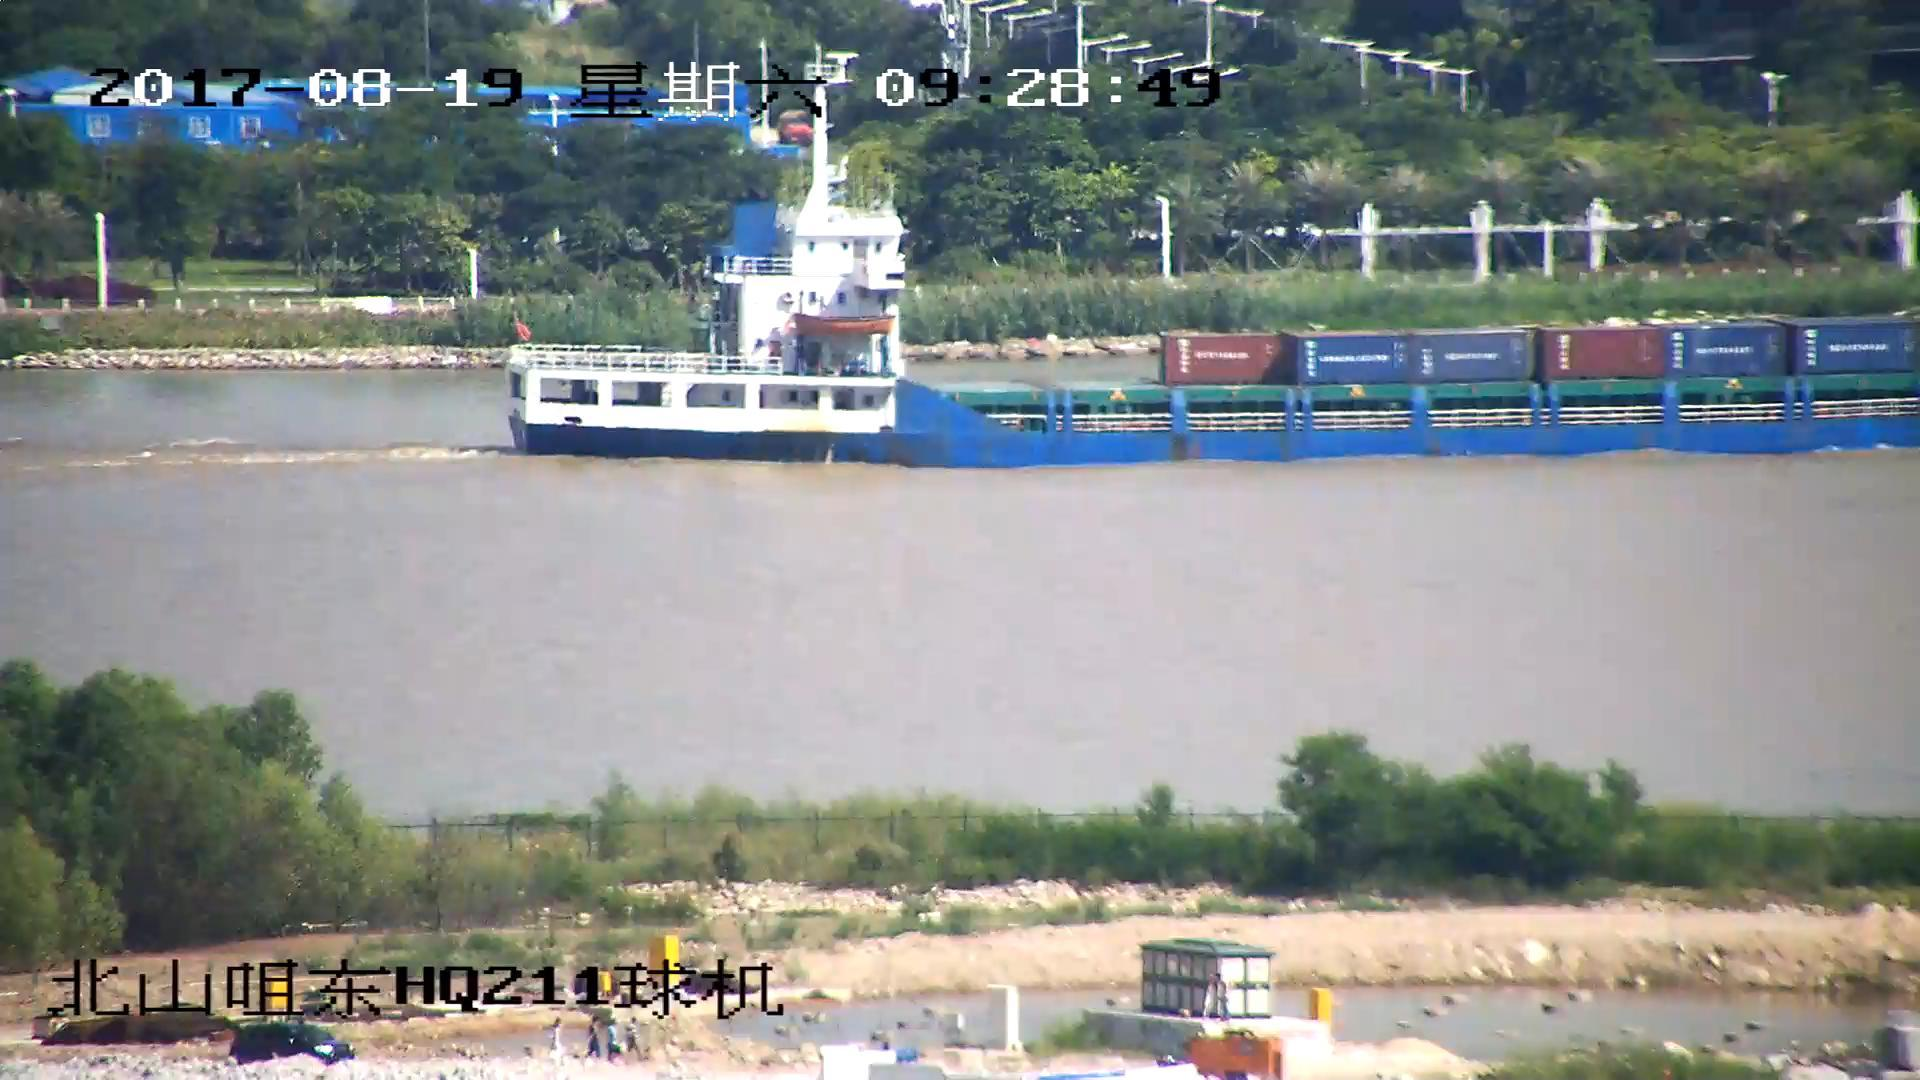Ship: (505, 115, 1920, 468)
